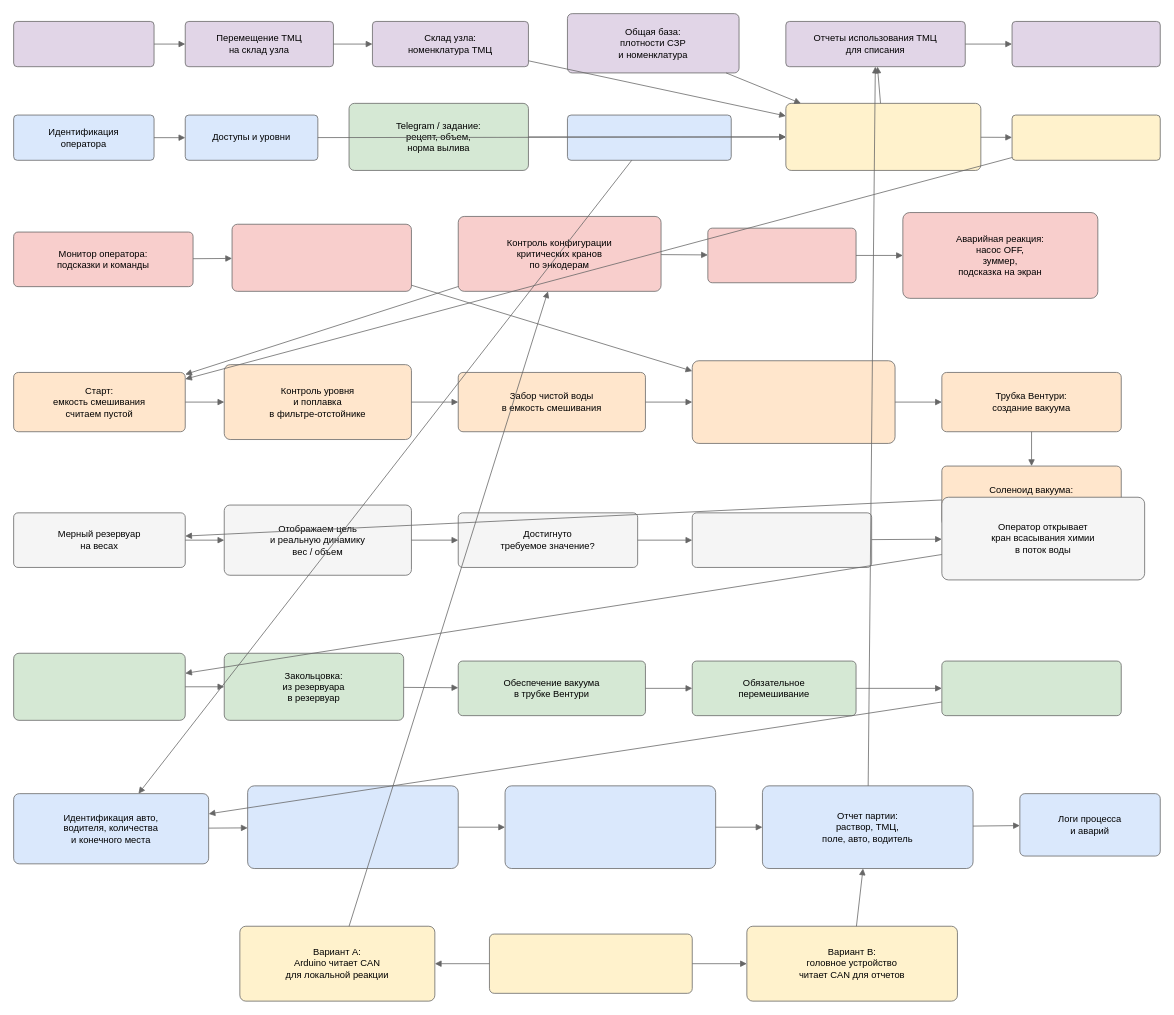
Image size: 1174x1015. Some labels were removed from this diagram. The shapes that lost their labels are listed below. From the top down, each one's centre as x and y in pixels, then its label:
At point 83,44: "Основной склад СЗР / ТМЦ".
At point 1085,44: "Списание на посевные поля".
At point 649,137: "ТС, водитель, конечное место".
At point 883,136: "Сопоставление рецепта с ТМЦ склада узла и плотностями".
At point 1085,137: "Расчет целевого веса / объема".
At point 321,257: "Оператор выполняет ручные действия по указаниям".
At point 781,255: "Кран вне алгоритма?".
At point 793,401: "Подготовка химии: тарированная тара, ручной отбор оператором".
At point 781,539: "Перекрыть соленоид вакуума".
At point 99,686: "Мойка мерного резервуара в промежутках".
At point 1031,688: "Выдача раствора на грузовое авто".
At point 352,827: "Финальная доливка воды через емкость смешивания в машину".
At point 610,827: "Промывка системы этой же процедурой 10 м3: 2 м3 на мойку".
At point 590,963: "Расходомер CAN: решить, куда подключать".
